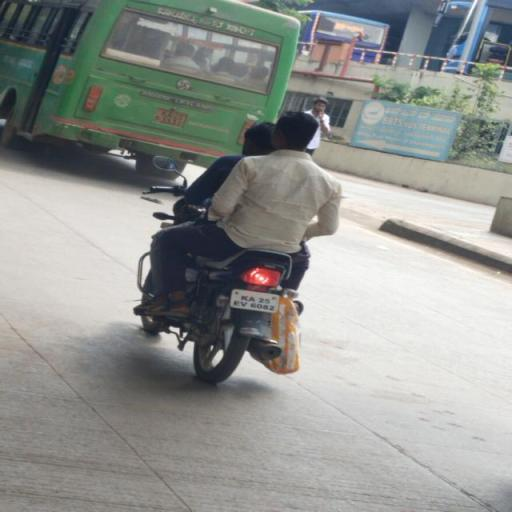bike: (133, 108, 349, 391)
numberplate: (228, 290, 287, 316)
withouthelmet: (274, 112, 316, 150), (244, 122, 274, 156)
